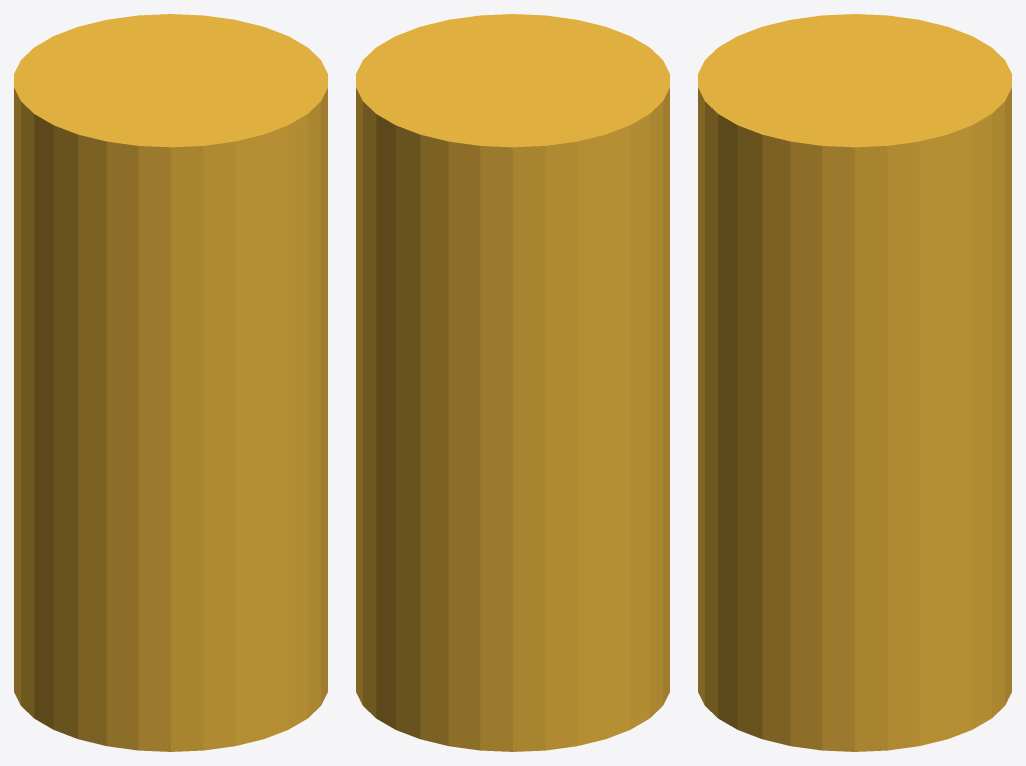
The model's file is Res01_Tumbler3(1).fbx.
3 views of the same model, side by side, from view 1: azimuth 30°, elevation 25°; view 2: azimuth 150°, elevation 25°; view 3: azimuth 270°, elevation 25° (orthographic).
Visible parts, largest first — view 1: Res01_Tumbler_3(1); view 2: Res01_Tumbler_3(1); view 3: Res01_Tumbler_3(1).
Part boxes in pixels (<box>): Res01_Tumbler_3(1): <box>14,14,327,751</box>; Res01_Tumbler_3(1): <box>356,14,669,751</box>; Res01_Tumbler_3(1): <box>698,14,1011,751</box>.
Size of the model in its own units: 24.74 by 52.3 by 24.6.
